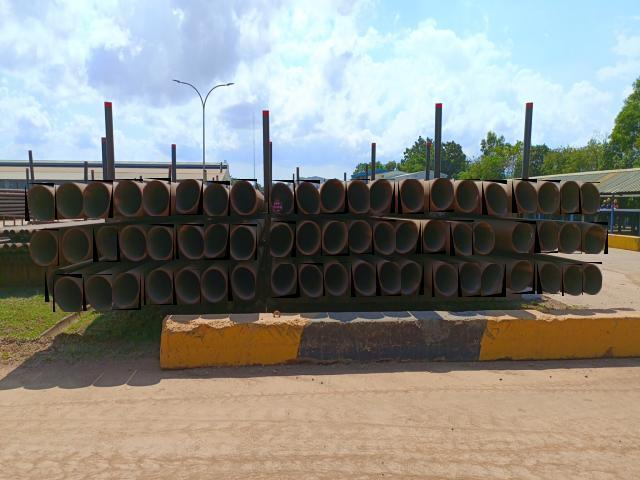pipe: (113, 179, 143, 218), (83, 180, 113, 218), (29, 229, 59, 266), (25, 183, 54, 221), (53, 274, 82, 312), (117, 225, 146, 262), (83, 274, 112, 311), (112, 273, 141, 310), (143, 178, 171, 216), (55, 182, 83, 219), (61, 227, 89, 264), (146, 224, 174, 260), (176, 224, 204, 259), (144, 270, 172, 305), (93, 226, 120, 262), (173, 269, 200, 305), (322, 222, 350, 256), (176, 180, 203, 215), (203, 181, 230, 216), (230, 180, 257, 215), (230, 225, 257, 260), (200, 268, 227, 303), (228, 266, 255, 301), (204, 224, 230, 260), (270, 221, 296, 257), (296, 220, 322, 256), (271, 264, 298, 298), (320, 179, 346, 214), (398, 179, 424, 214), (268, 180, 294, 214), (294, 180, 320, 214), (297, 263, 323, 297), (432, 263, 458, 297), (372, 220, 397, 255), (351, 262, 376, 297), (482, 180, 507, 215), (450, 220, 474, 256), (370, 180, 395, 214), (429, 178, 454, 212), (455, 180, 480, 214), (396, 220, 421, 254), (324, 262, 349, 296), (376, 262, 401, 296), (512, 180, 537, 214), (481, 264, 506, 297), (346, 179, 370, 213), (422, 220, 446, 254), (537, 180, 561, 214), (512, 260, 536, 294), (349, 221, 372, 255), (458, 264, 481, 298), (512, 222, 536, 254), (401, 262, 424, 295), (472, 222, 495, 255), (585, 222, 608, 255), (559, 222, 582, 254), (537, 262, 560, 294), (562, 264, 585, 296), (45, 269, 67, 302), (560, 181, 582, 214), (536, 222, 558, 254), (579, 182, 600, 214), (582, 262, 602, 295)
